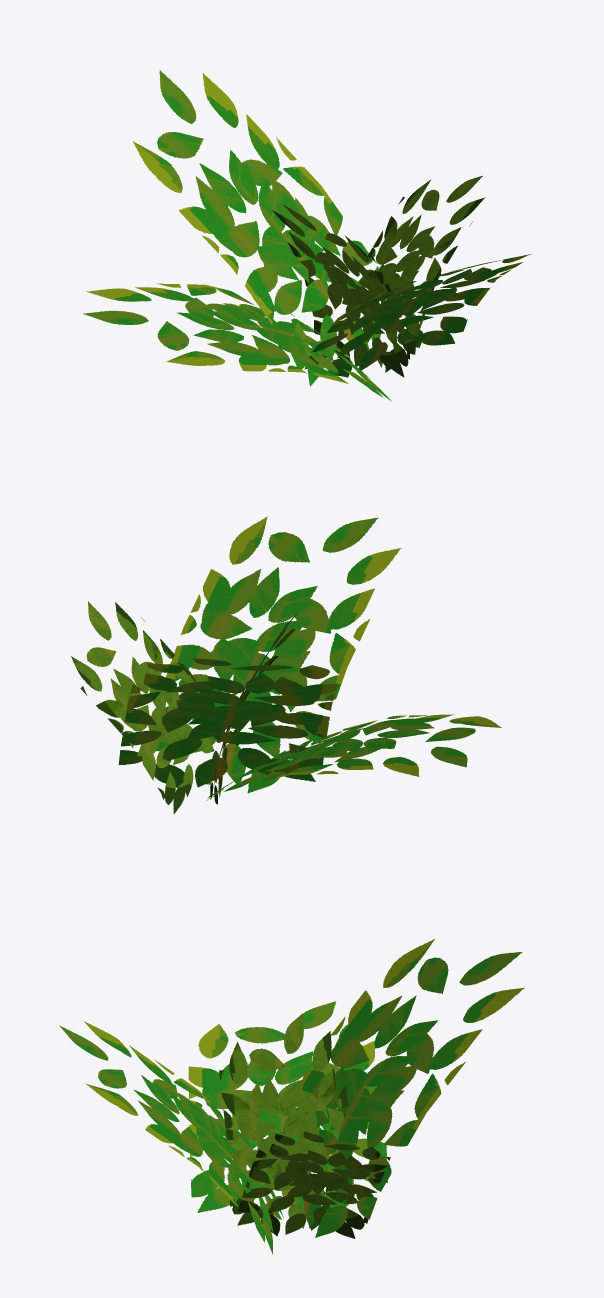
Rendered from Folhitas_01.fbx.
The picture shows the model from 3 angles, top to bottom: view 1: azimuth 30°, elevation 25°; view 2: azimuth 150°, elevation 25°; view 3: azimuth 270°, elevation 25°; orthographic projection. The views are drawn at different scales.
Parts seen in each view (by area): view 1: LOWA2; view 2: LOWA2; view 3: LOWA2.
Boxes of the visible parts, box(x1,y1,x2,y2) form: LOWA2: box(83, 70, 531, 401); LOWA2: box(71, 516, 501, 813); LOWA2: box(59, 939, 524, 1254).
Bounding box in the file's own units: 8.5 × 5.13 × 9.33.
